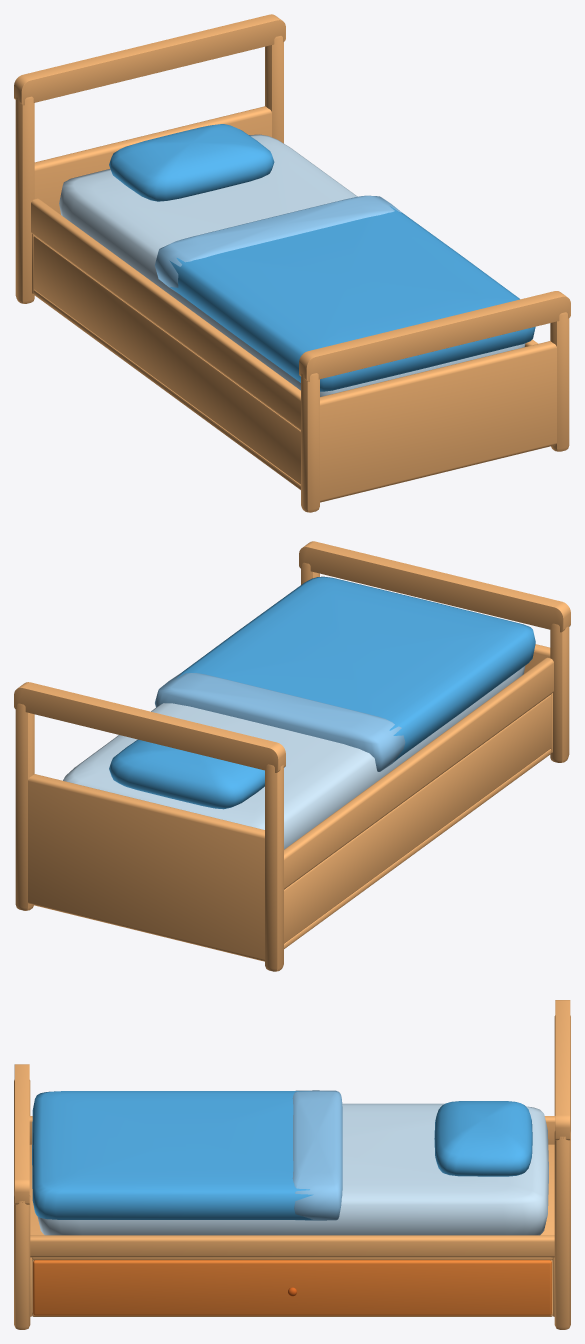
Rendered from cama_infantil_gaveta_laranja.glb.
The picture shows the model from 3 angles, top to bottom: view 1: azimuth 30°, elevation 25°; view 2: azimuth 150°, elevation 25°; view 3: azimuth 270°, elevation 25°; orthographic projection. The views are drawn at different scales.
Parts seen in each view (by area): view 1: cama_infantil_gaveta_laranja; view 2: cama_infantil_gaveta_laranja; view 3: cama_infantil_gaveta_laranja, gaveta_1.
Part boxes in pixels (<box>): cama_infantil_gaveta_laranja: <box>14,14,570,512</box>; cama_infantil_gaveta_laranja: <box>14,541,570,971</box>; cama_infantil_gaveta_laranja: <box>14,1000,570,1329</box>; gaveta_1: <box>33,1260,551,1315</box>.
Size of the model in its own units: 1.08 by 0.86 by 2.04.
1 material, 1 textured.
